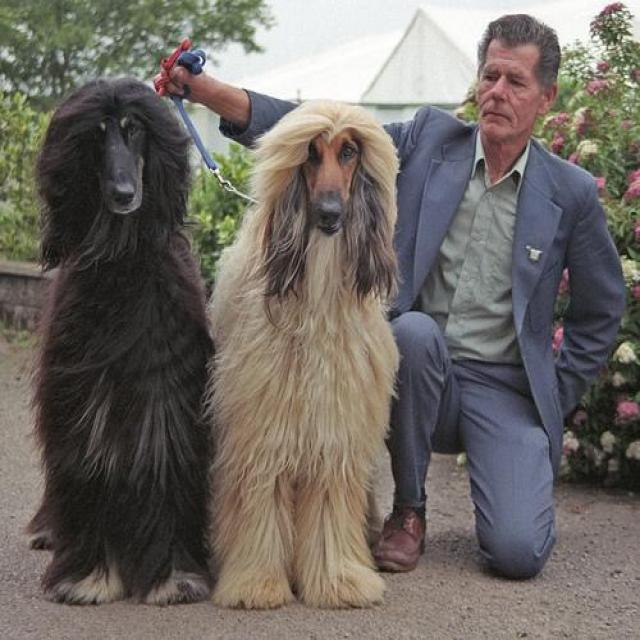afghan_hound: (16, 72, 218, 610), (197, 99, 401, 611)
